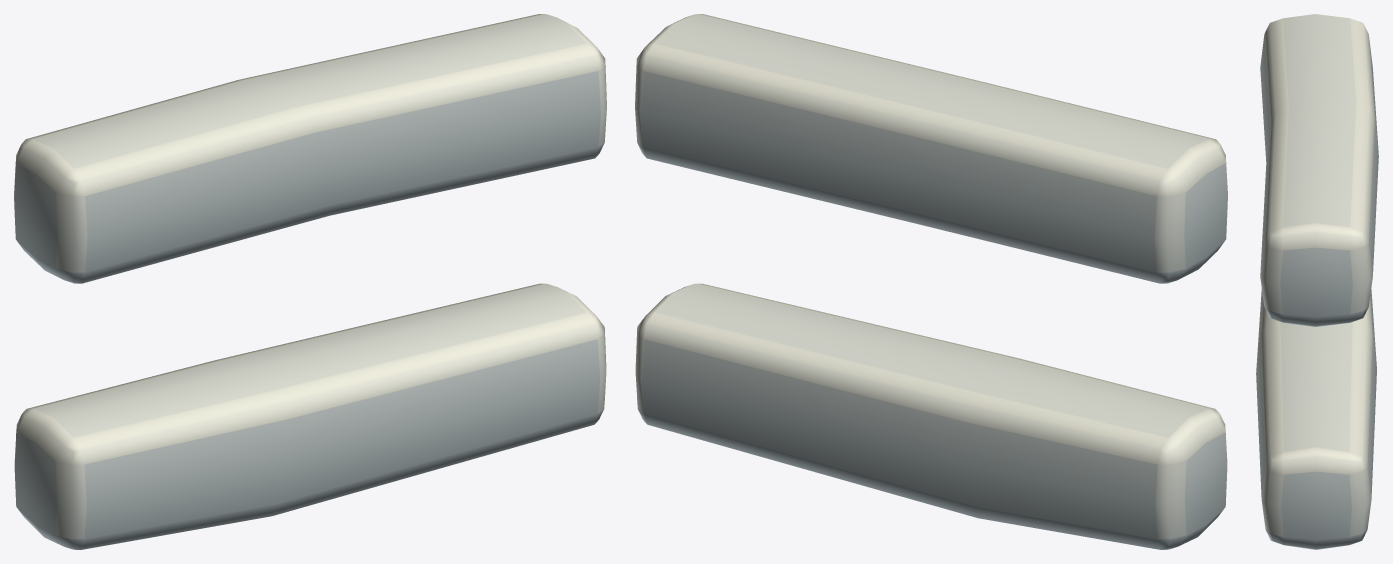
The model's file is Quartz_Fence_Planks.fbx.
The picture shows the model from 3 angles, left to right: view 1: azimuth 30°, elevation 25°; view 2: azimuth 150°, elevation 25°; view 3: azimuth 270°, elevation 25°; orthographic projection. The views are drawn at different scales.
Parts seen in each view (by area): view 1: Quartz_Fence_Planks_LOD0; view 2: Quartz_Fence_Planks_LOD0; view 3: Quartz_Fence_Planks_LOD0.
Part boxes in pixels (x1,y1,x2,y2): Quartz_Fence_Planks_LOD0: (14, 14, 606, 549); Quartz_Fence_Planks_LOD0: (635, 14, 1227, 549); Quartz_Fence_Planks_LOD0: (1256, 14, 1378, 549).
Size of what is drawn, in the model's own units: 1.07 by 0.7599 by 0.249.
